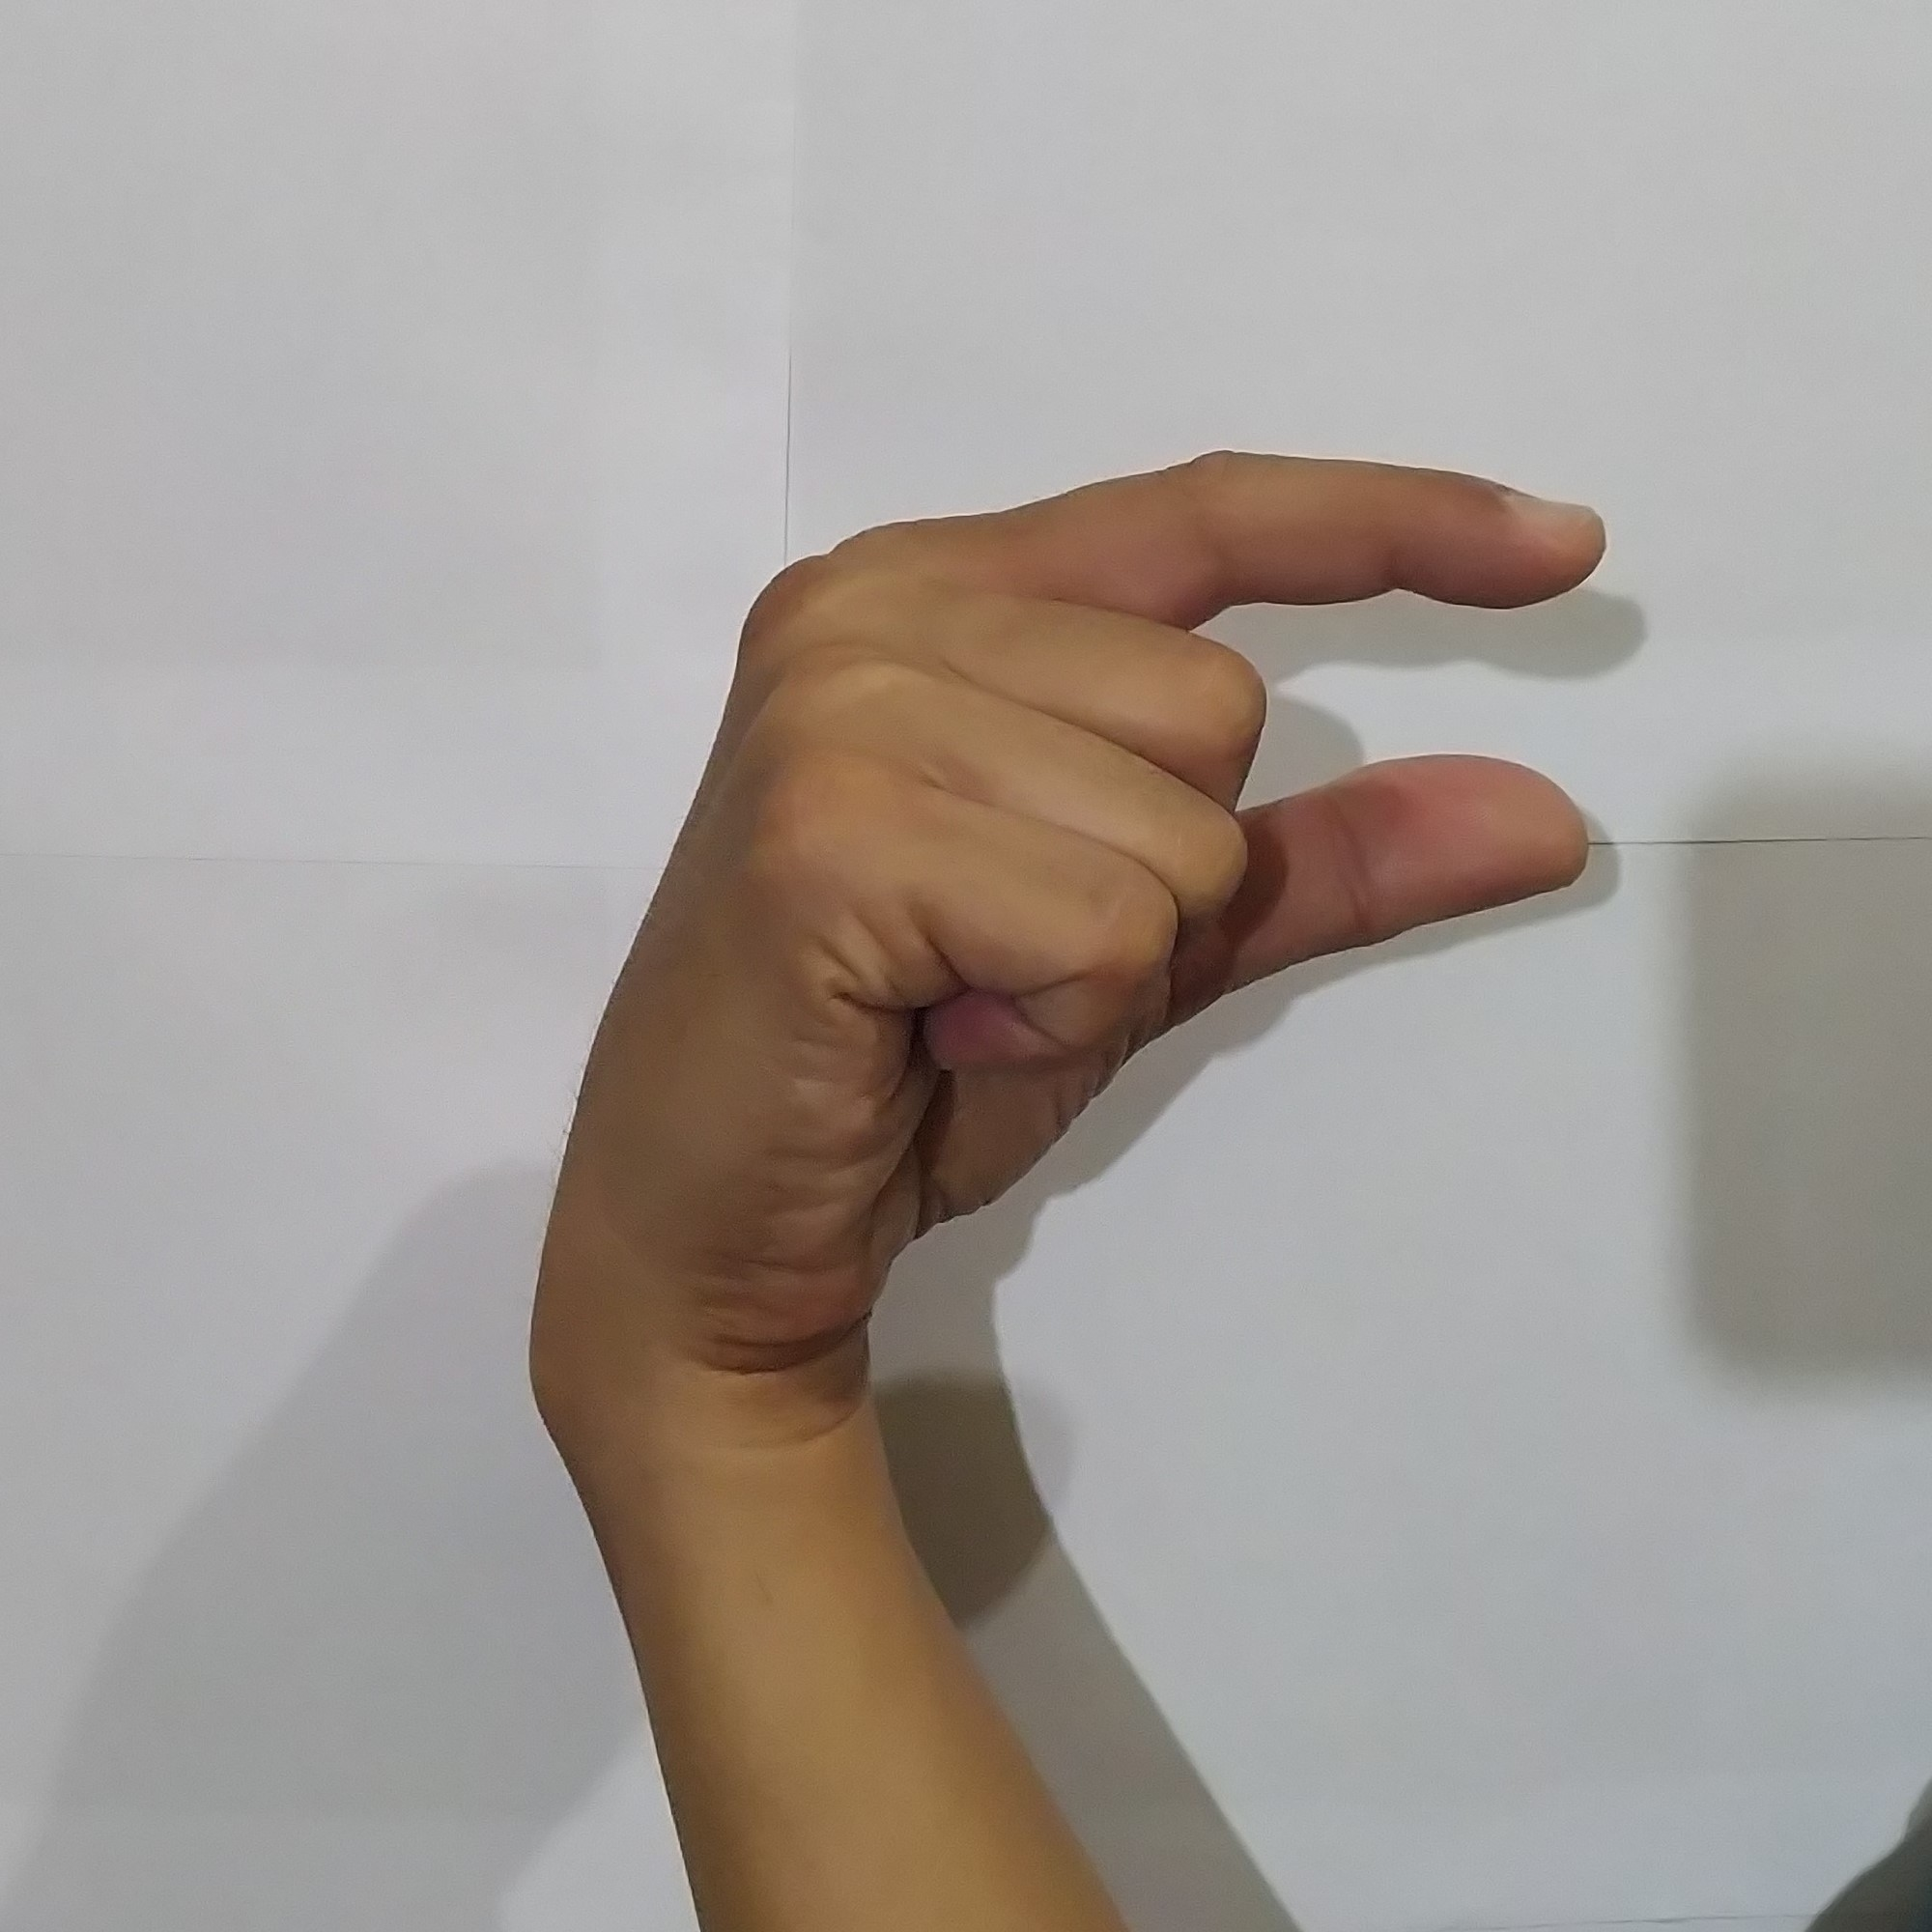G: (538, 428, 1633, 1329)
